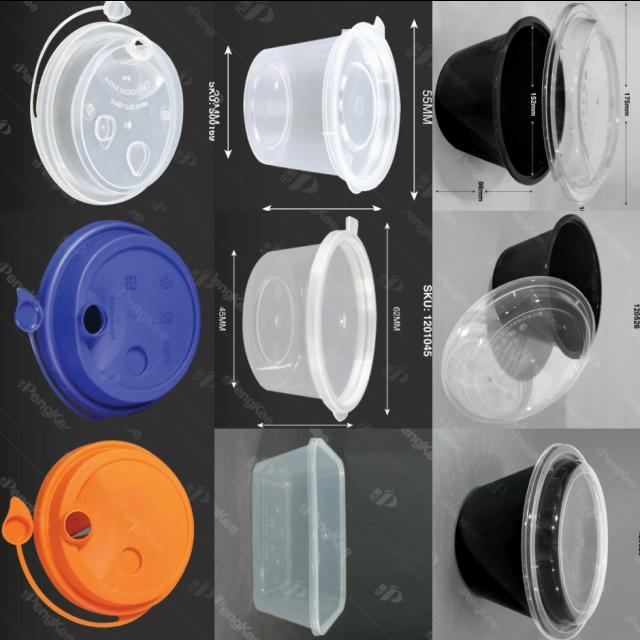plastik: (14, 219, 202, 421), (2, 437, 194, 630), (30, 0, 182, 204), (456, 442, 608, 639), (243, 16, 400, 192), (244, 217, 377, 419), (441, 275, 595, 422), (436, 16, 566, 185), (253, 437, 345, 635), (484, 214, 602, 358), (542, 2, 620, 202)
